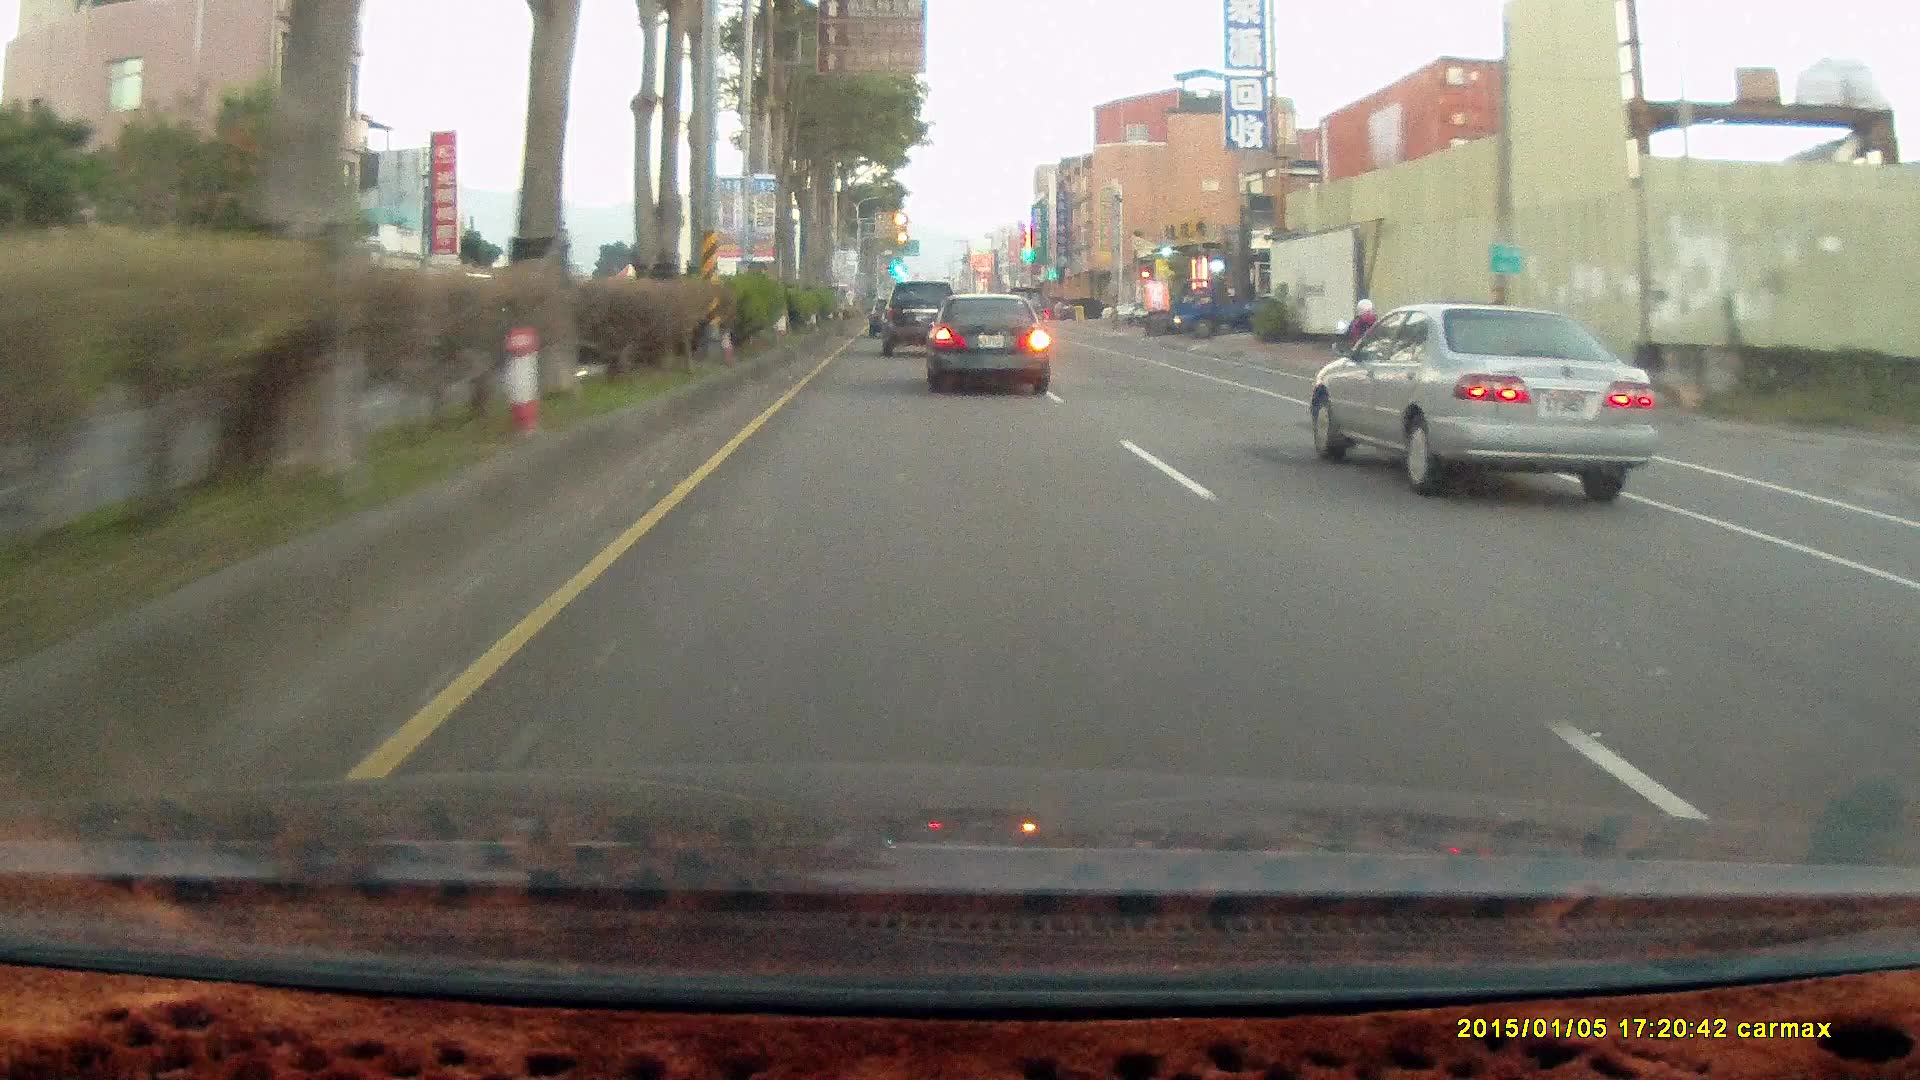rider: (1332, 295, 1386, 406)
vehicle: (1309, 299, 1658, 501), (1307, 303, 1659, 494), (920, 290, 1050, 393), (932, 297, 1059, 393), (1167, 272, 1275, 341), (1168, 281, 1278, 338), (882, 282, 961, 356), (882, 281, 961, 355), (1061, 295, 1107, 318)
